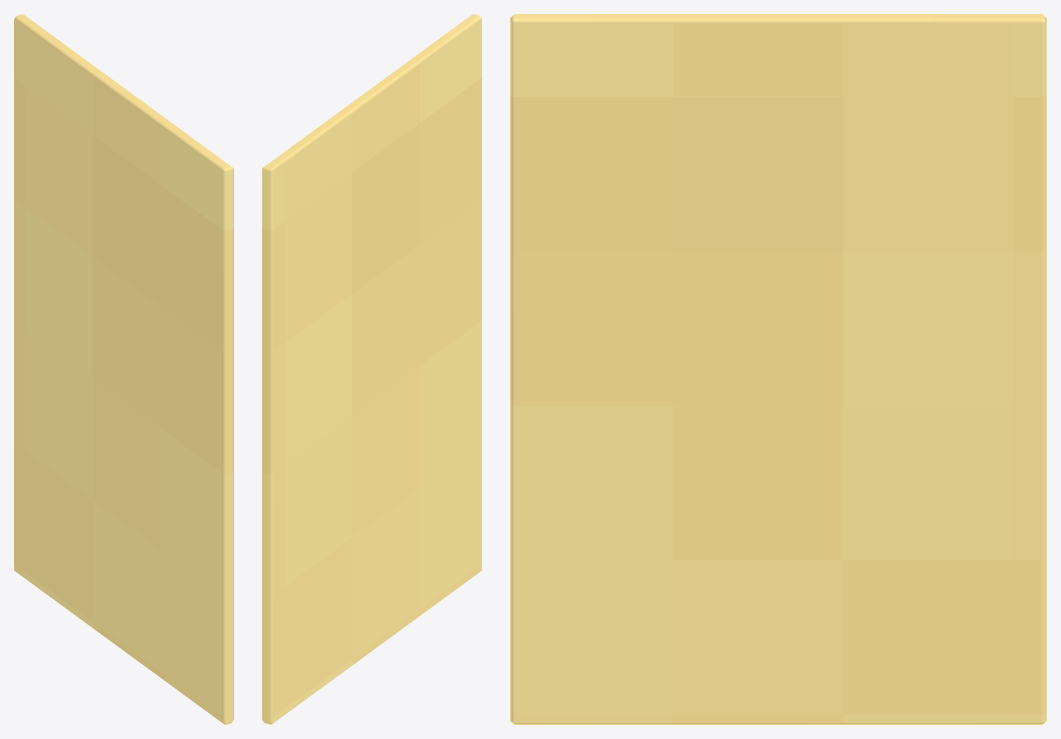
Rendered from Lantern-pane.glb.
The picture shows the model from 3 angles, left to right: view 1: azimuth 30°, elevation 25°; view 2: azimuth 150°, elevation 25°; view 3: azimuth 270°, elevation 25°; orthographic projection. The views are drawn at different scales.
Visible parts, largest first — view 1: Lantern-pane; view 2: Lantern-pane; view 3: Lantern-pane.
Part boxes in pixels (x1,y1,x2,y2): Lantern-pane: (14,14,233,724); Lantern-pane: (262,14,481,724); Lantern-pane: (510,14,1046,724).
Size of the model in its own units: 0.004 by 0.179 by 0.123.
Materials: 1 (1 with a texture image).
